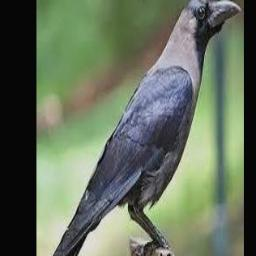Crow: (41, 0, 242, 256)
